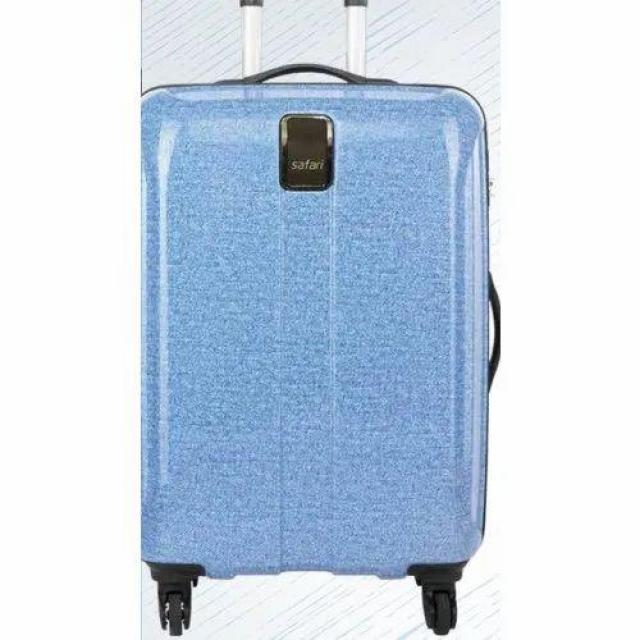luggage: (120, 56, 509, 591)
